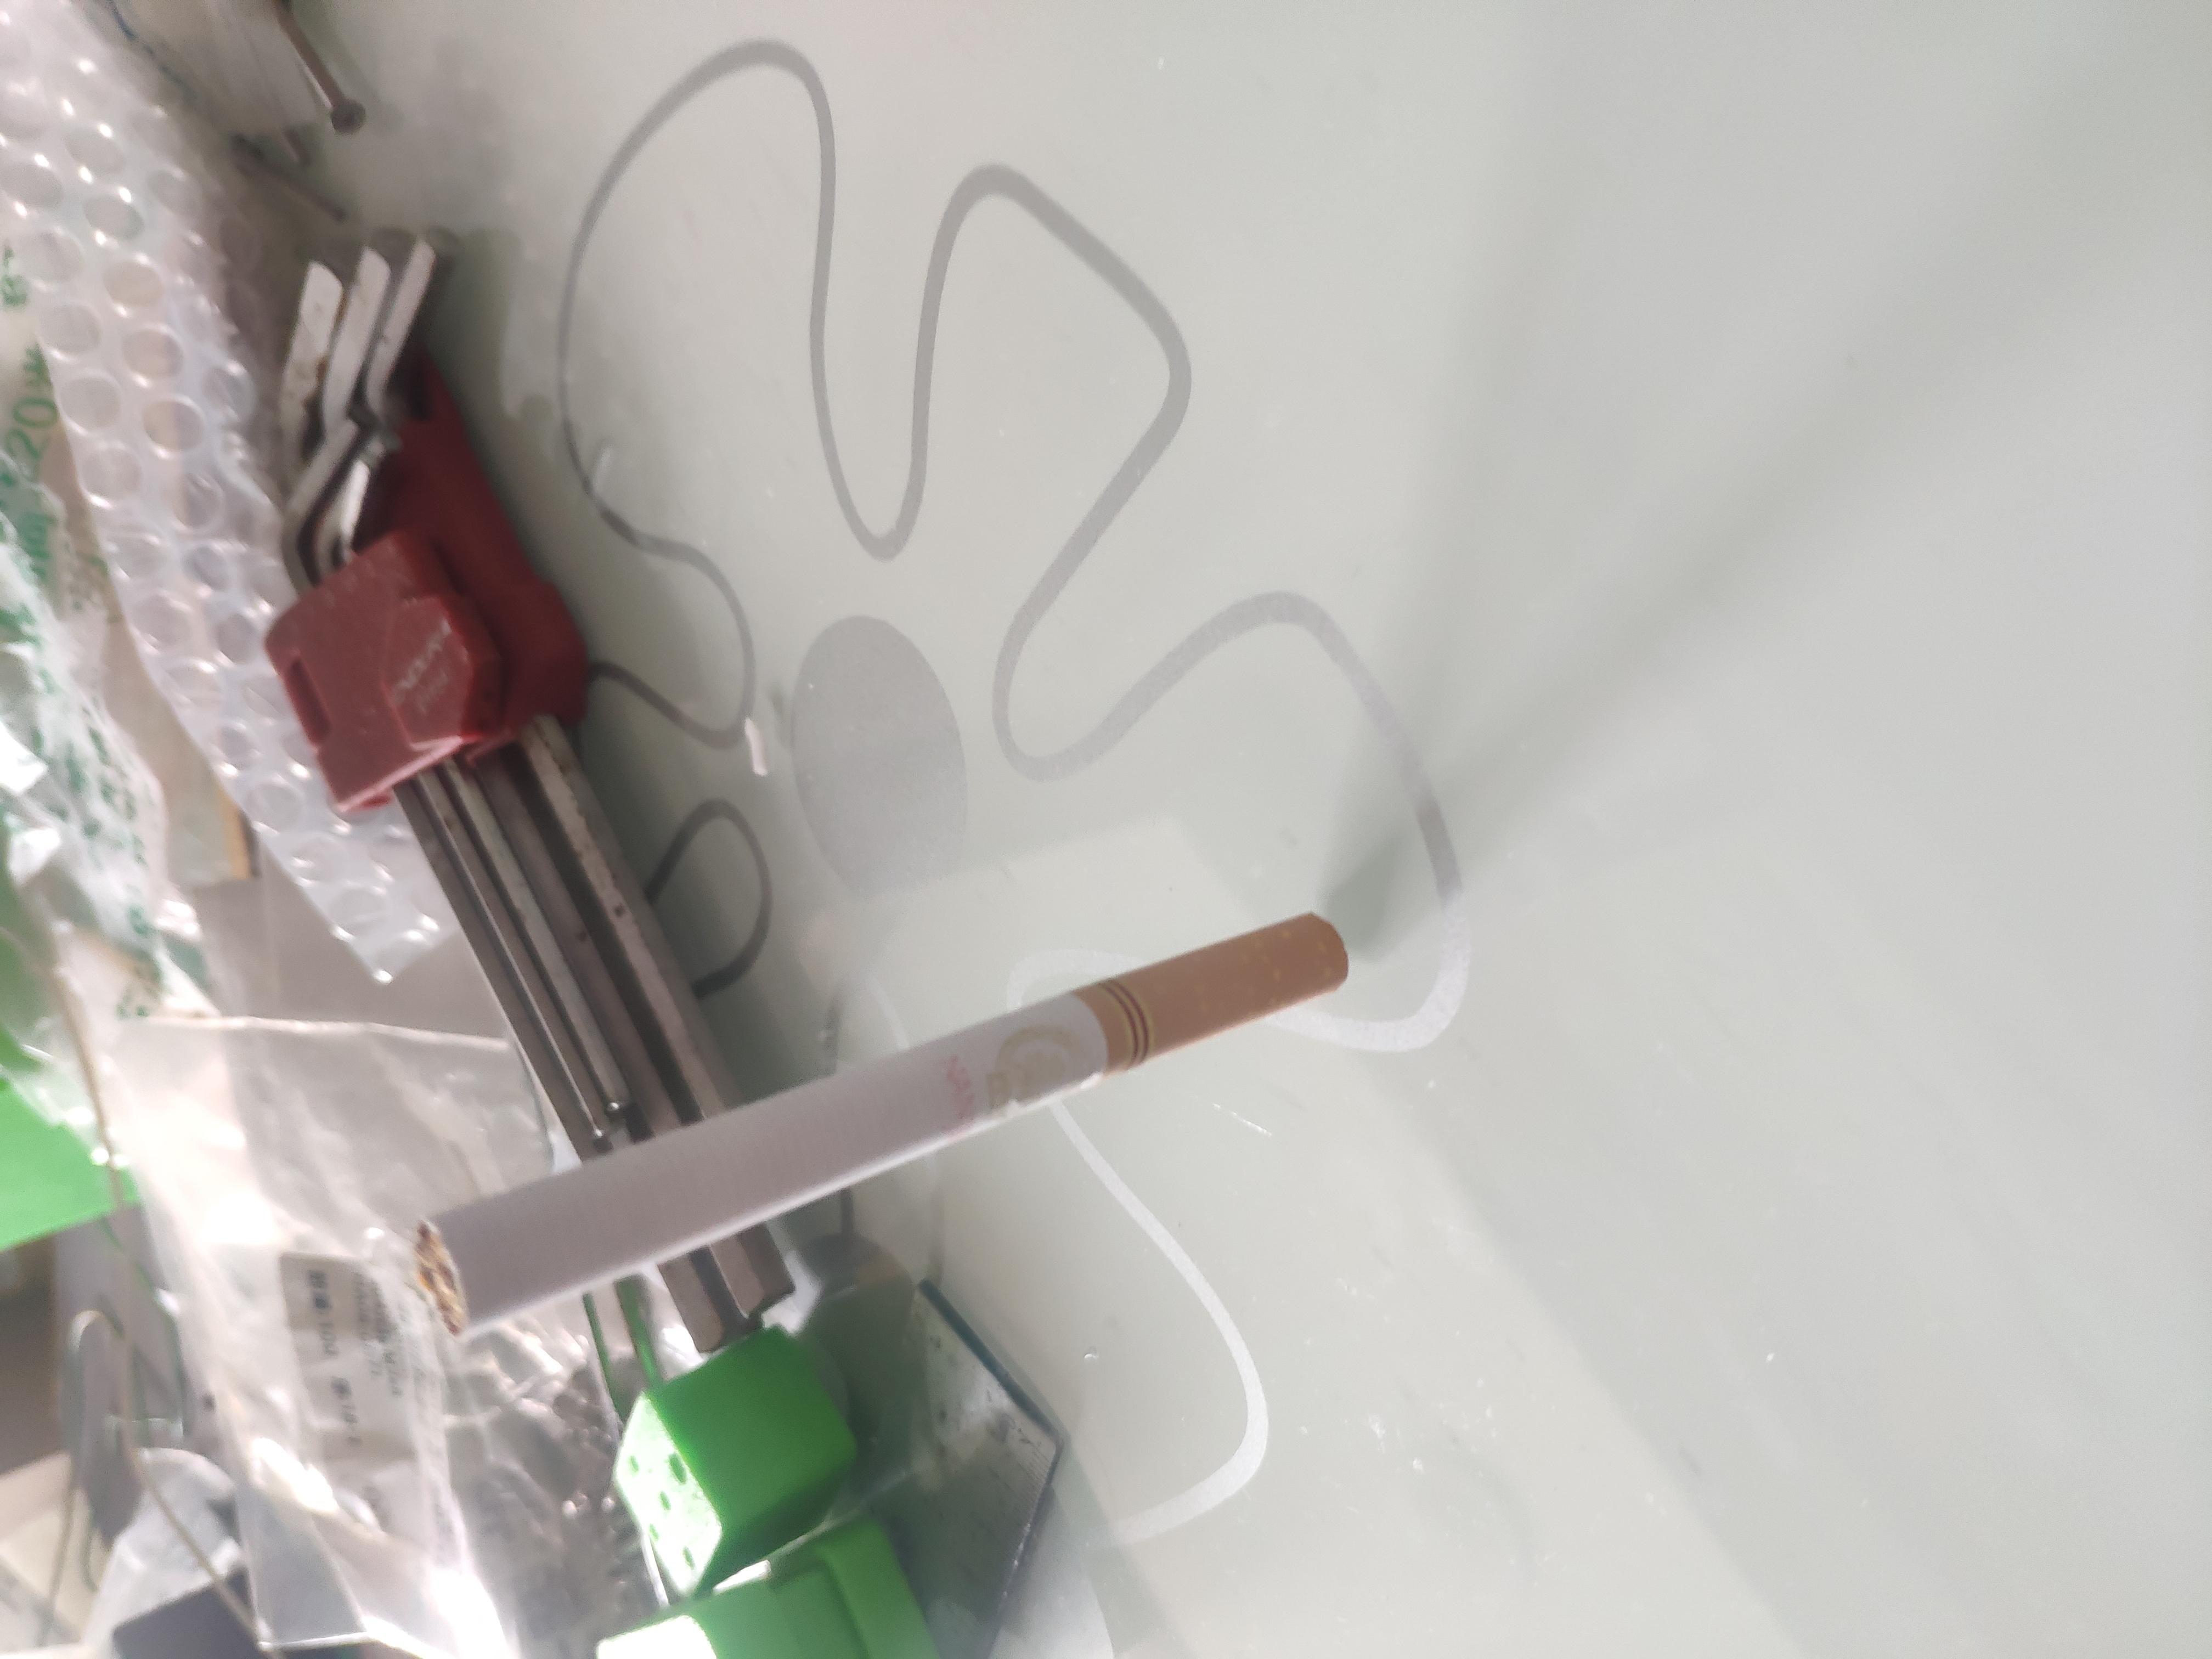smoke: (434, 308, 1000, 1012)
